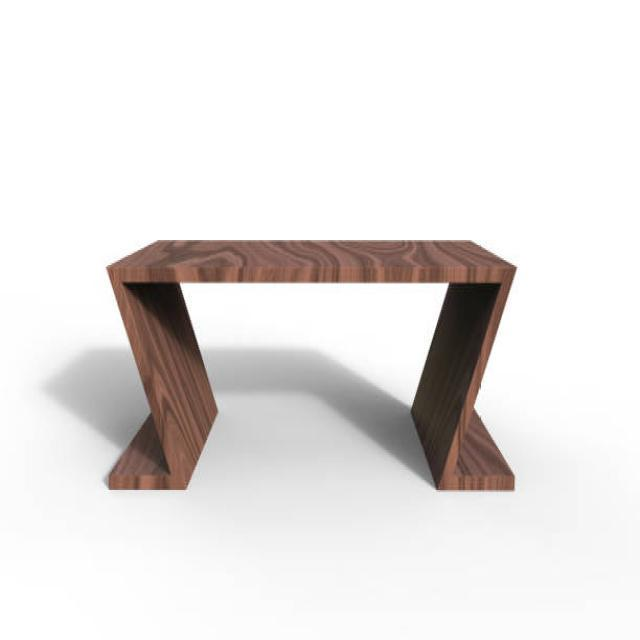table: (105, 236, 518, 494)
